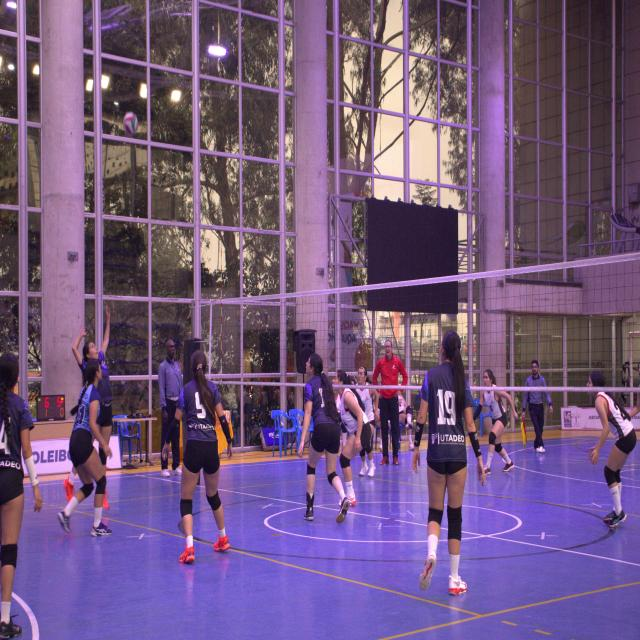volleyball: (123, 112, 138, 136)
